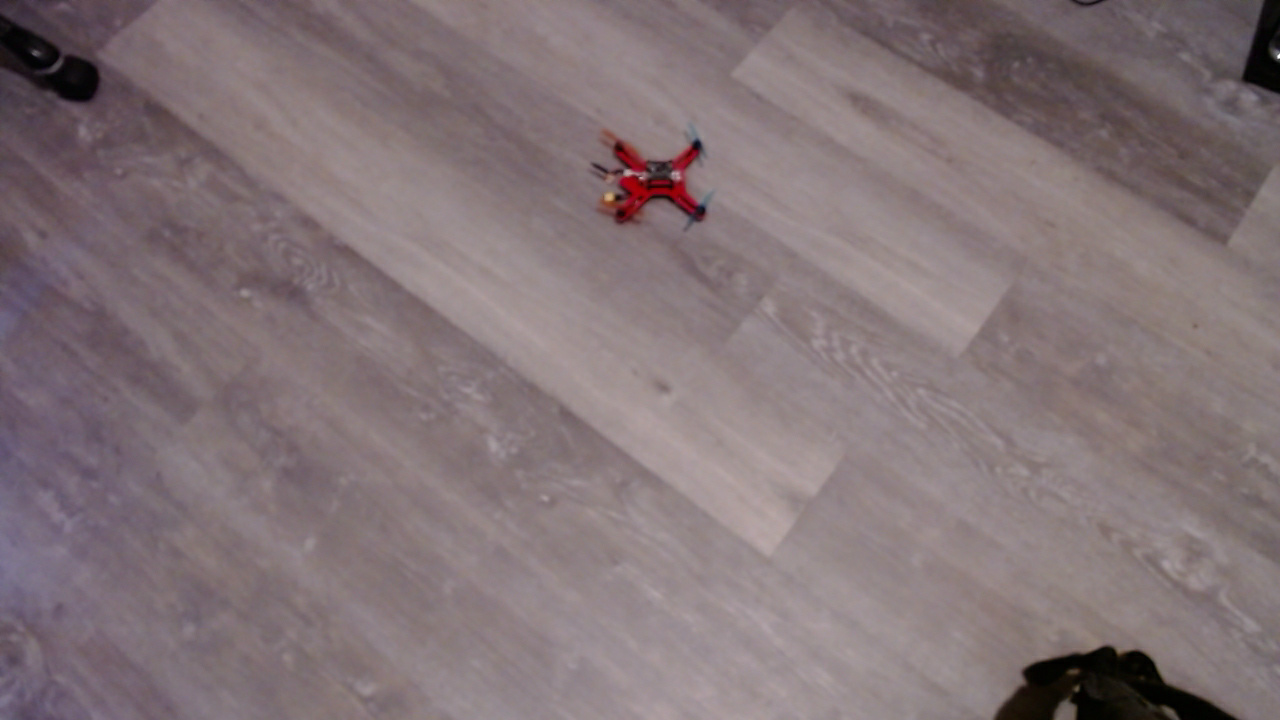crazyflie: (590, 123, 733, 248)
